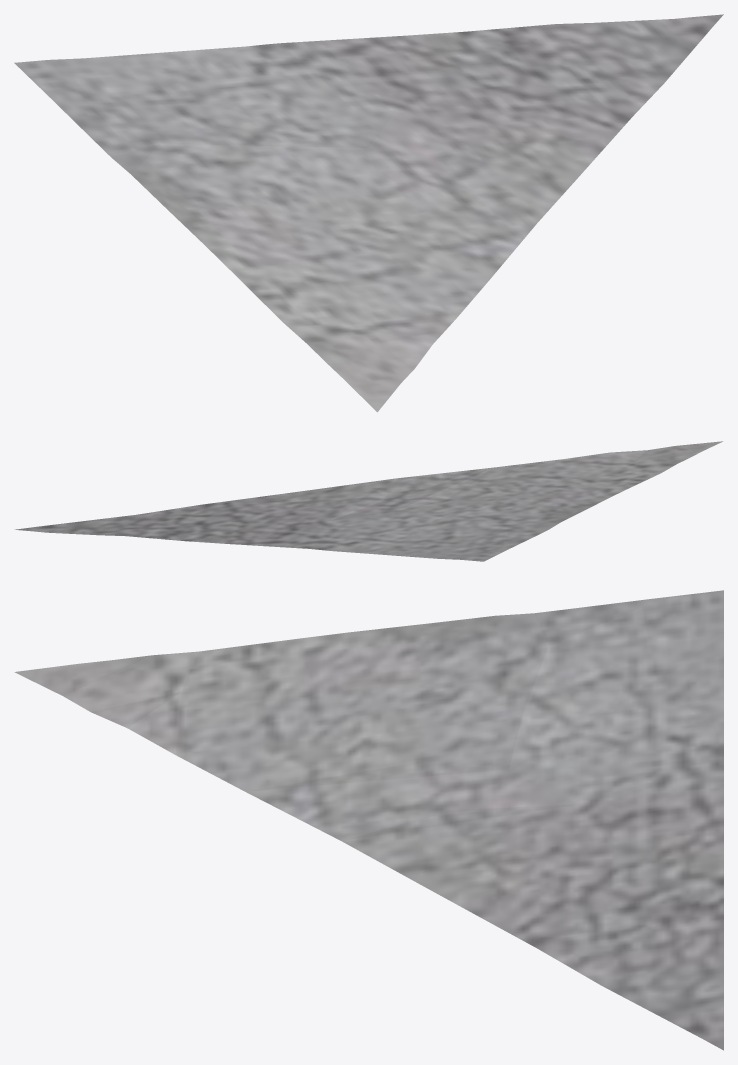
3 renders of one model, top to bottom at view 1: azimuth 30°, elevation 25°; view 2: azimuth 150°, elevation 25°; view 3: azimuth 270°, elevation 25°, orthographic. The views are drawn at different scales.
Bounding box in the file's own units: 2.11 × 0.3541 × 1.87.
Materials: 1 (1 with a texture image).
